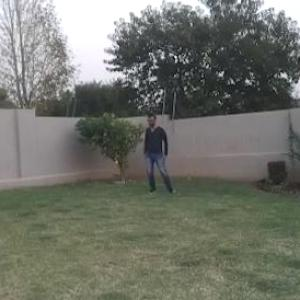follow: (141, 108, 170, 197)
